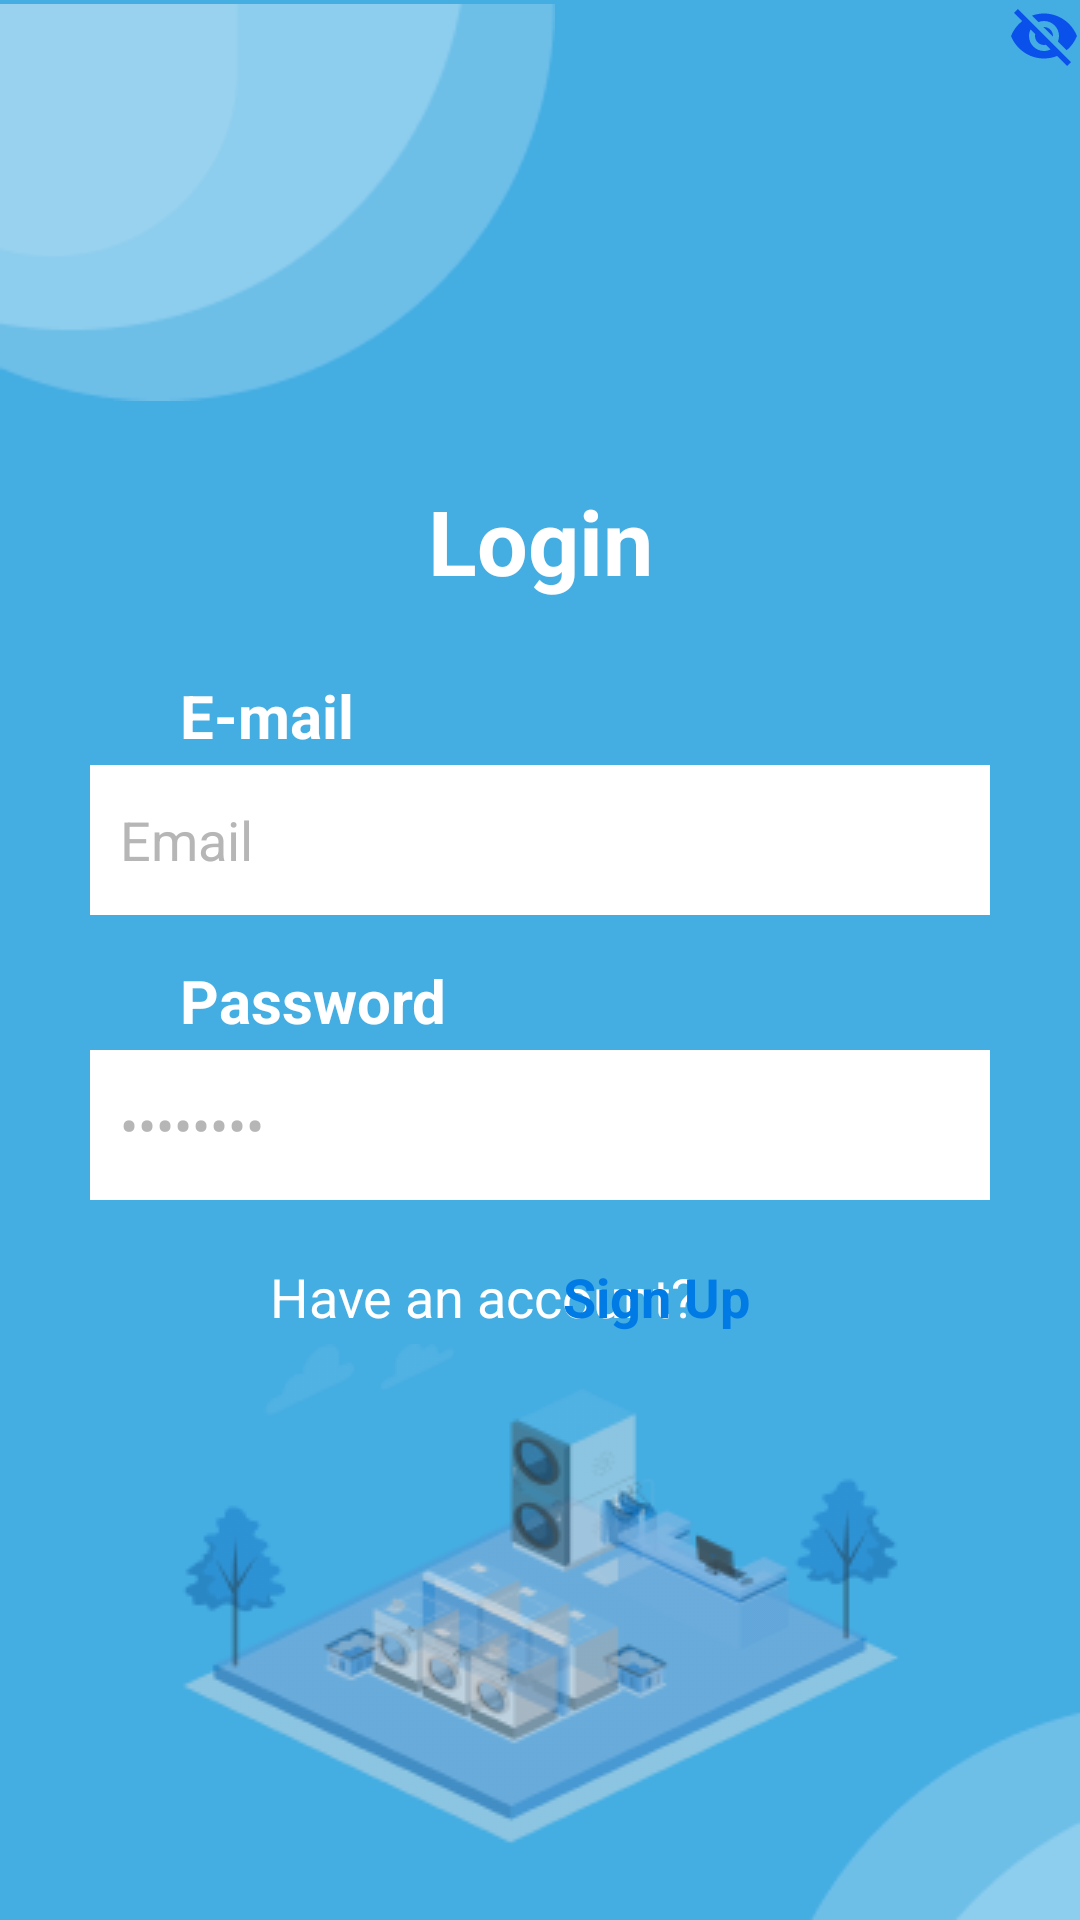

Where icons sit on this 1080×1920 app screen, as [left=x1, top=y1, right=x2, bottom=y2]:
visibility off: [left=1011, top=9, right=1077, bottom=66]
